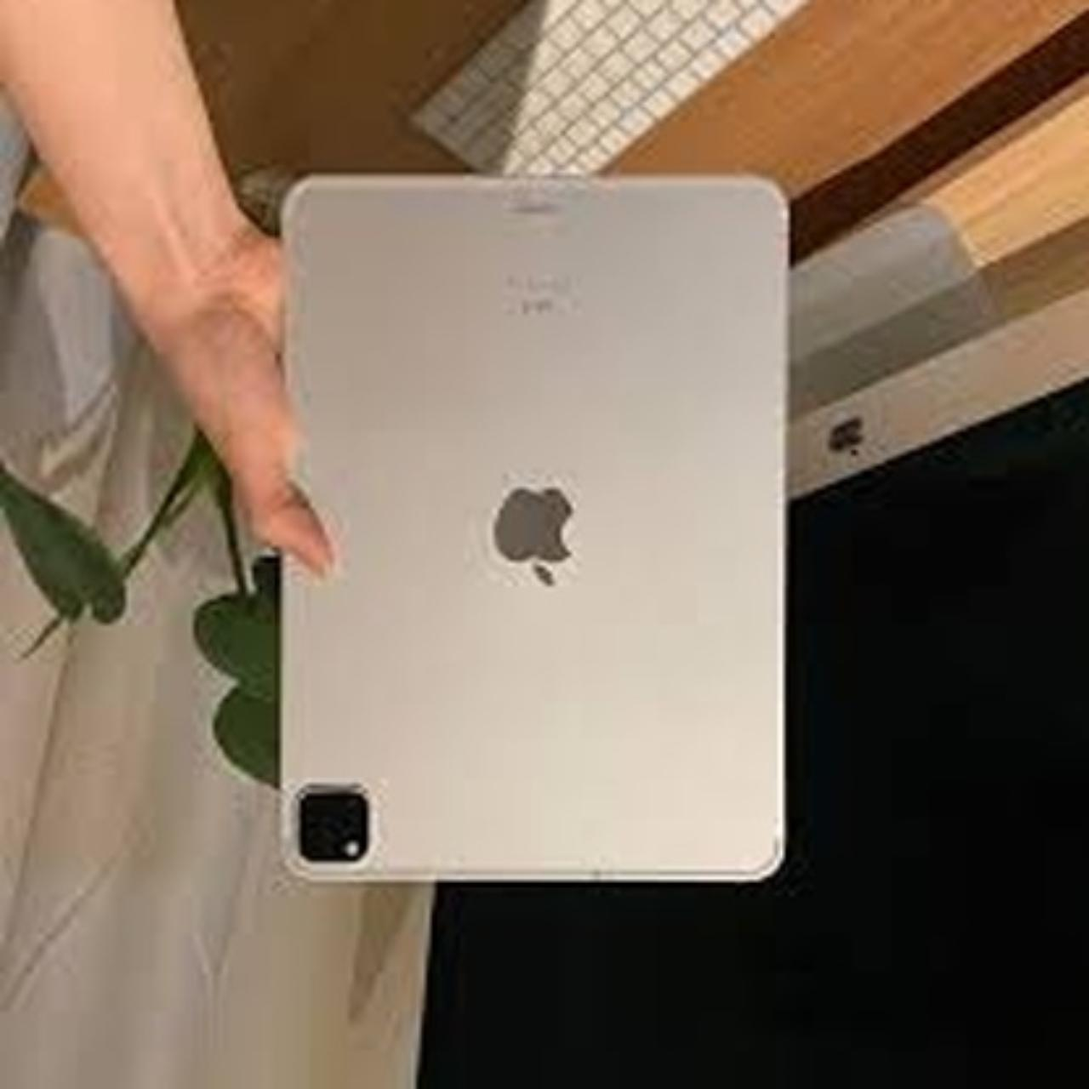Tablet_PC: (268, 173, 806, 895)
